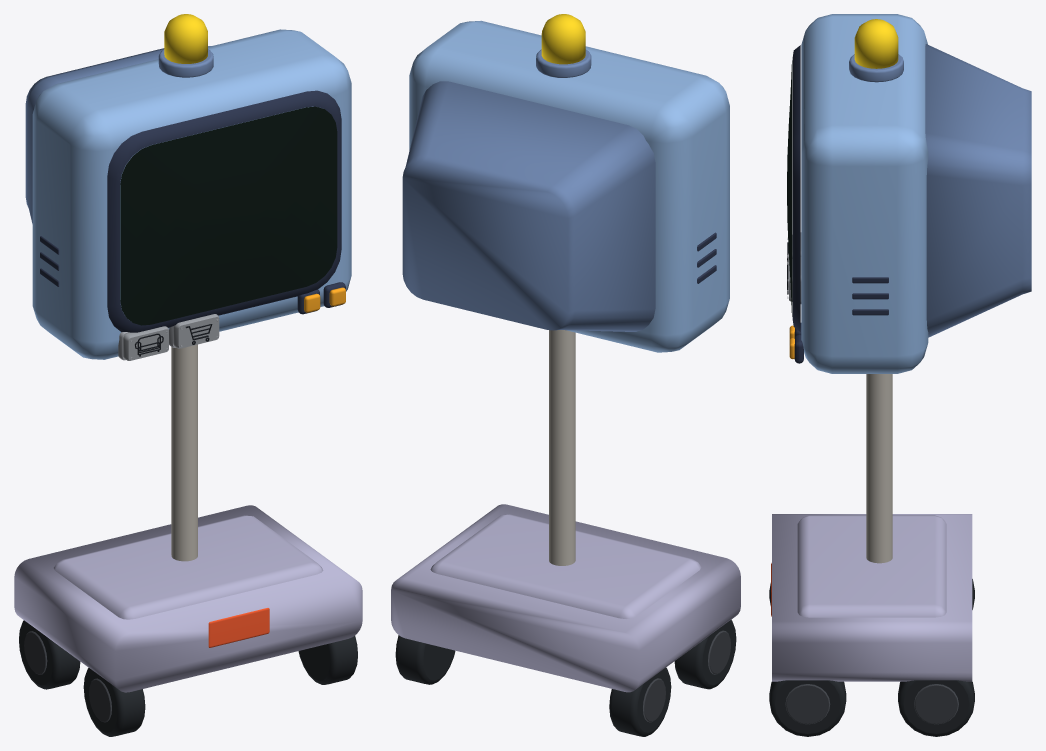
File: dispatcher_01_LOD0.fbx
The picture shows the model from 3 angles, left to right: view 1: azimuth 30°, elevation 25°; view 2: azimuth 150°, elevation 25°; view 3: azimuth 270°, elevation 25°; orthographic projection.
Visible parts, largest first — view 1: dispatcher_01_LOD0_Body, dispatcher_01_LOD0_Screen, Button_Deliveries, Button_Shop; view 2: dispatcher_01_LOD0_Body; view 3: dispatcher_01_LOD0_Body, dispatcher_01_LOD0_Screen.
Part boxes in pixels (bbox=[...]): dispatcher_01_LOD0_Body: bbox=[14, 14, 362, 736]; dispatcher_01_LOD0_Screen: bbox=[120, 106, 337, 325]; Button_Deliveries: bbox=[118, 326, 168, 360]; Button_Shop: bbox=[169, 314, 219, 348]; dispatcher_01_LOD0_Body: bbox=[391, 14, 740, 736]; dispatcher_01_LOD0_Body: bbox=[769, 14, 1031, 736]; dispatcher_01_LOD0_Screen: bbox=[787, 60, 792, 316].
Bounding box in the file's own units: 1.09 × 2.46 × 0.888.
